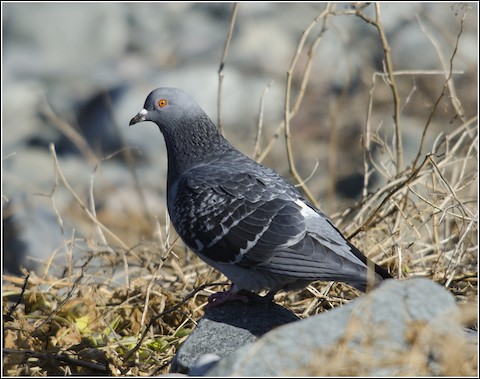pigeon: (125, 78, 405, 317)
